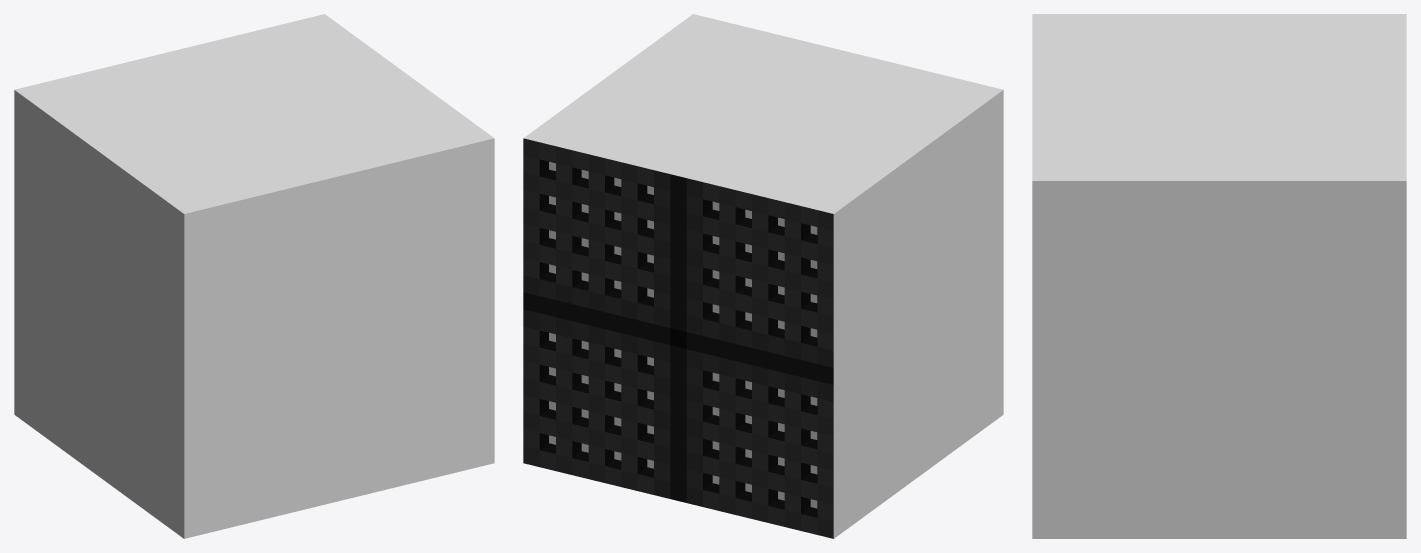
The model's file is NoSlipFloor.fbx.
3 views of the same model, side by side, from view 1: azimuth 30°, elevation 25°; view 2: azimuth 150°, elevation 25°; view 3: azimuth 270°, elevation 25° (orthographic). The views are drawn at different scales.
Visible parts, largest first — view 1: Cube; view 2: Cube; view 3: Cube.
Boxes of the visible parts, bbox=[...] form: Cube: bbox=[14, 14, 494, 538]; Cube: bbox=[523, 14, 1003, 538]; Cube: bbox=[1032, 14, 1406, 538].
Size of the model in its own units: 200 by 200 by 189.
